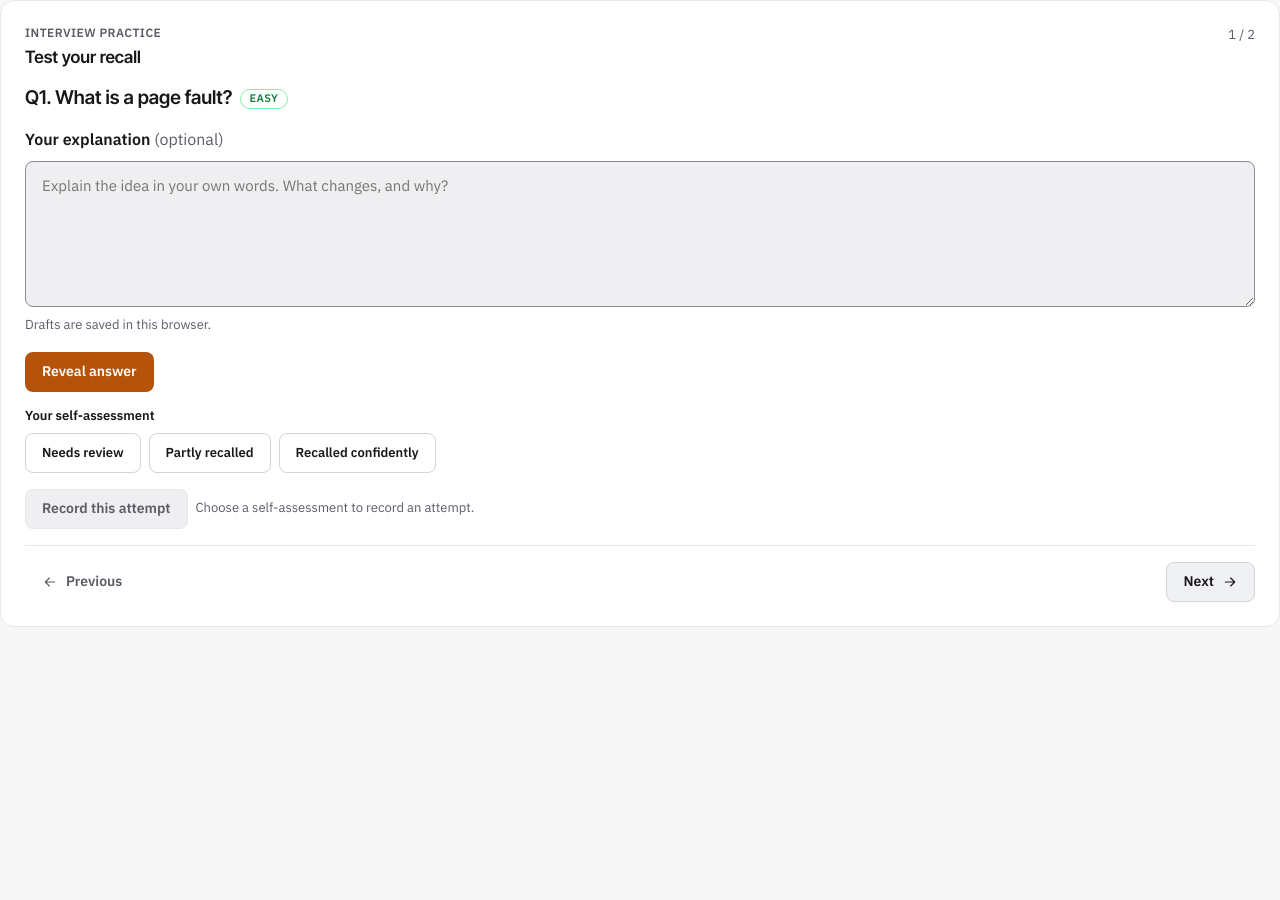
InterviewDeck › steps forward, resets reveal state, and disables Next on the last card
This screenshot has width=1280, height=900.
Click the button "Reveal answer". click: (89, 372)
box: 25,352 -> 154,392
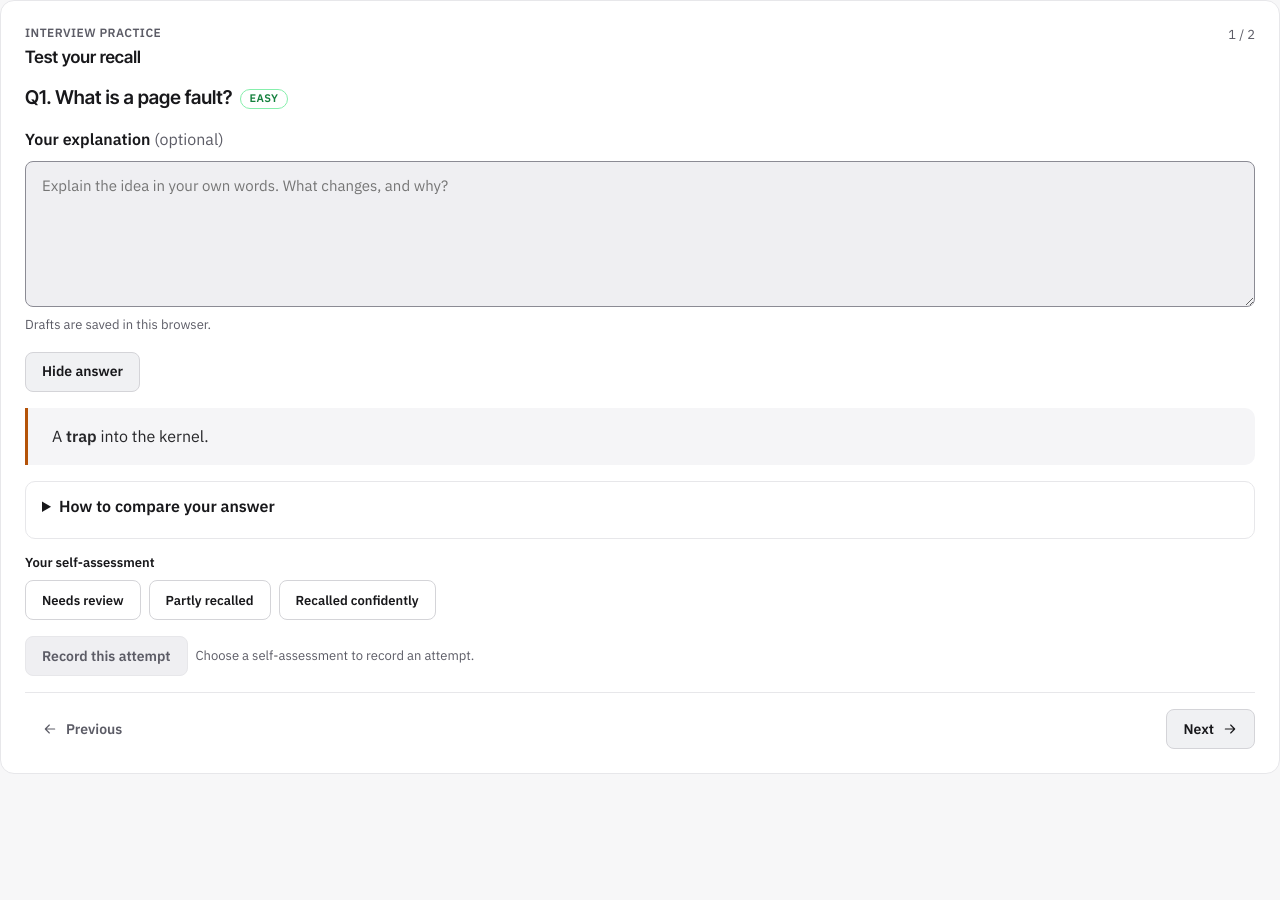
Click the button "Next". click: (1211, 729)
box: 1166,709 -> 1255,749
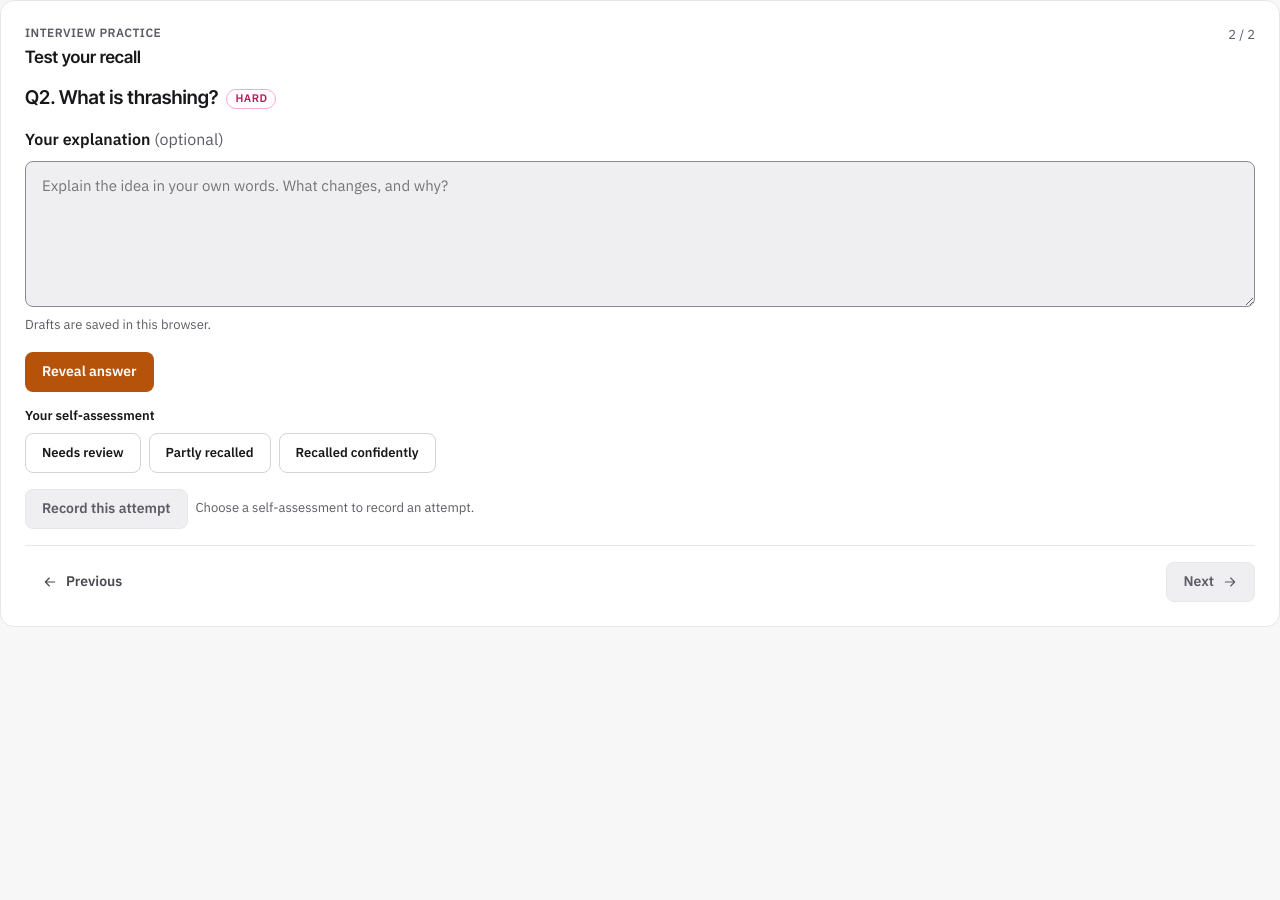
Expected: the text "2 / 2" is shown, 1228,25 -> 1255,46
Expected: the text "Q2. What is thrashing? hard" is shown, 25,86 -> 276,109
Expected: the button "Reveal answer" is collapsed, 25,352 -> 154,392
